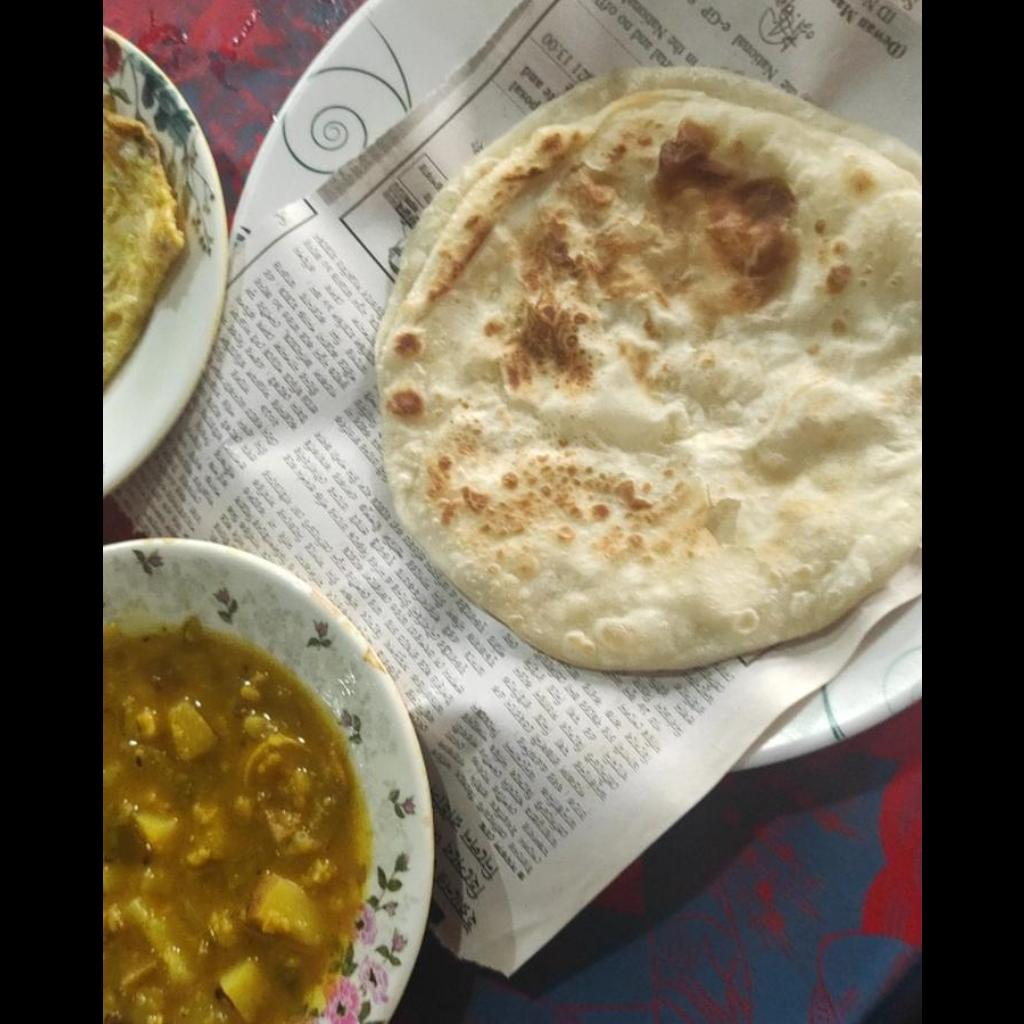daal: (104, 636, 352, 1020)
egg-poached: (102, 91, 185, 388)
ruti: (372, 64, 920, 671)
